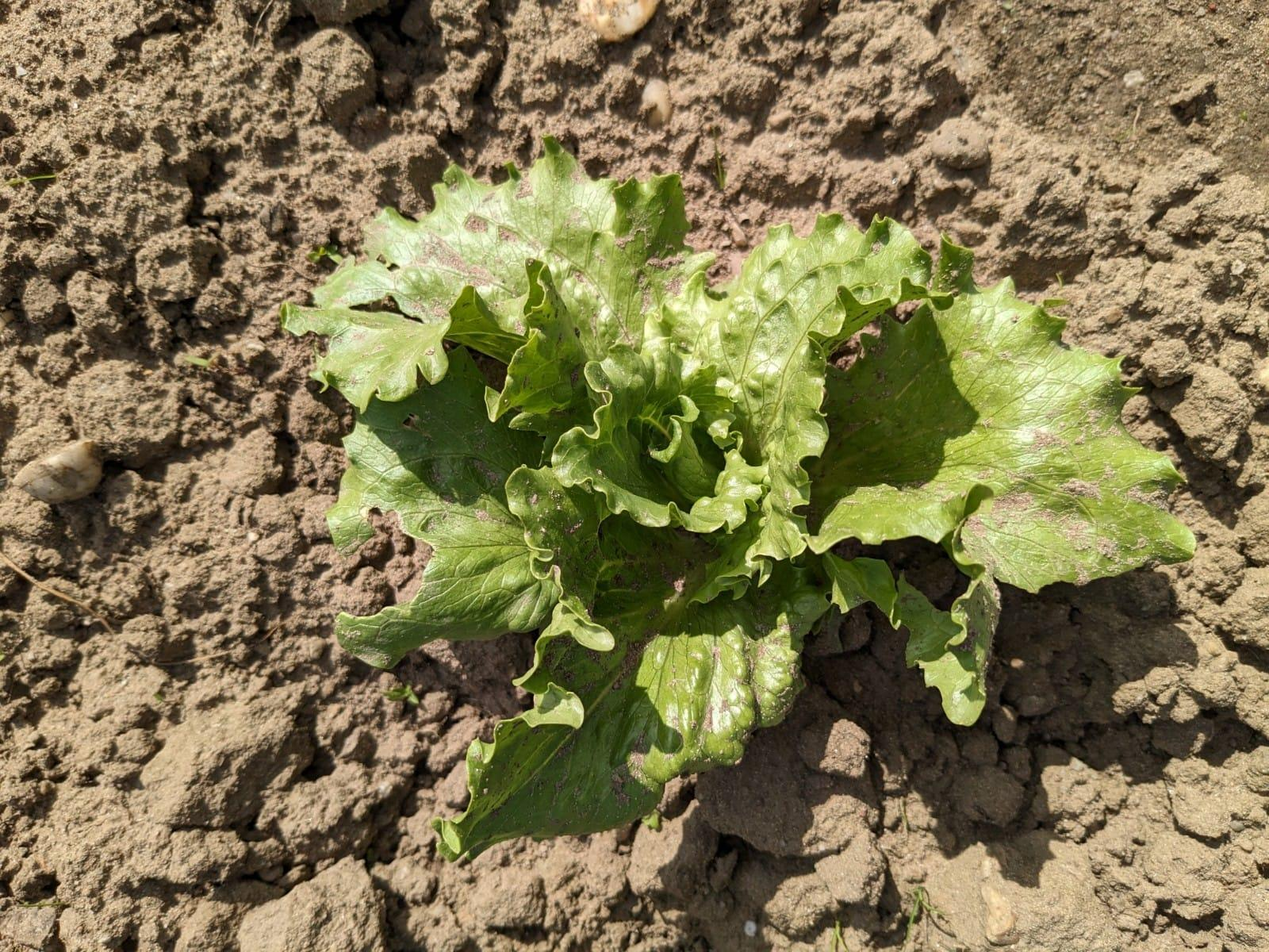Healthy: (282, 140, 1196, 857)
